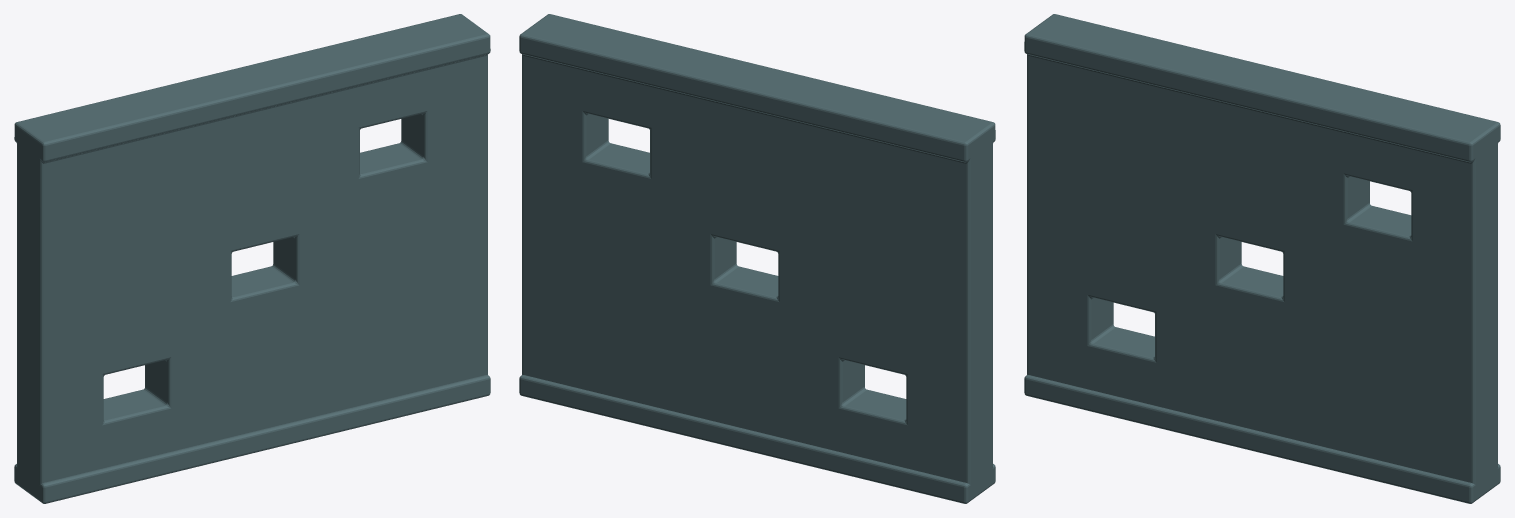
File: wall squares cut inside.fbx
The picture shows the model from 3 angles, left to right: view 1: azimuth 30°, elevation 25°; view 2: azimuth 150°, elevation 25°; view 3: azimuth 330°, elevation 25°; orthographic projection.
Parts seen in each view (by area): view 1: wall squares cut inside; view 2: wall squares cut inside; view 3: wall squares cut inside.
Boxes of the visible parts, <box> form: wall squares cut inside: <box>14,14,490,503</box>; wall squares cut inside: <box>519,14,995,503</box>; wall squares cut inside: <box>1024,14,1500,503</box>.
Size of the model in its own units: 400 by 308 by 46.25.
